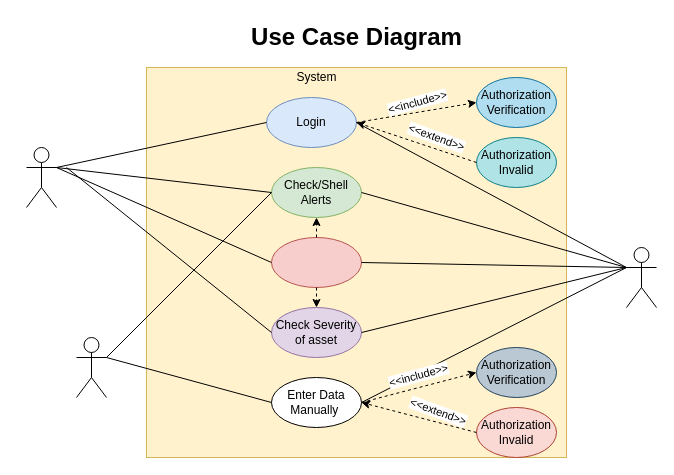
This 674x475 diagram has some shape labels left out. Each missing label, with the box of its shape:
Check Advised Maintenance: (270, 236, 362, 288)
CM: (626, 246, 656, 308)
Engineer: (26, 146, 56, 208)
Site Operator: (76, 336, 106, 398)
